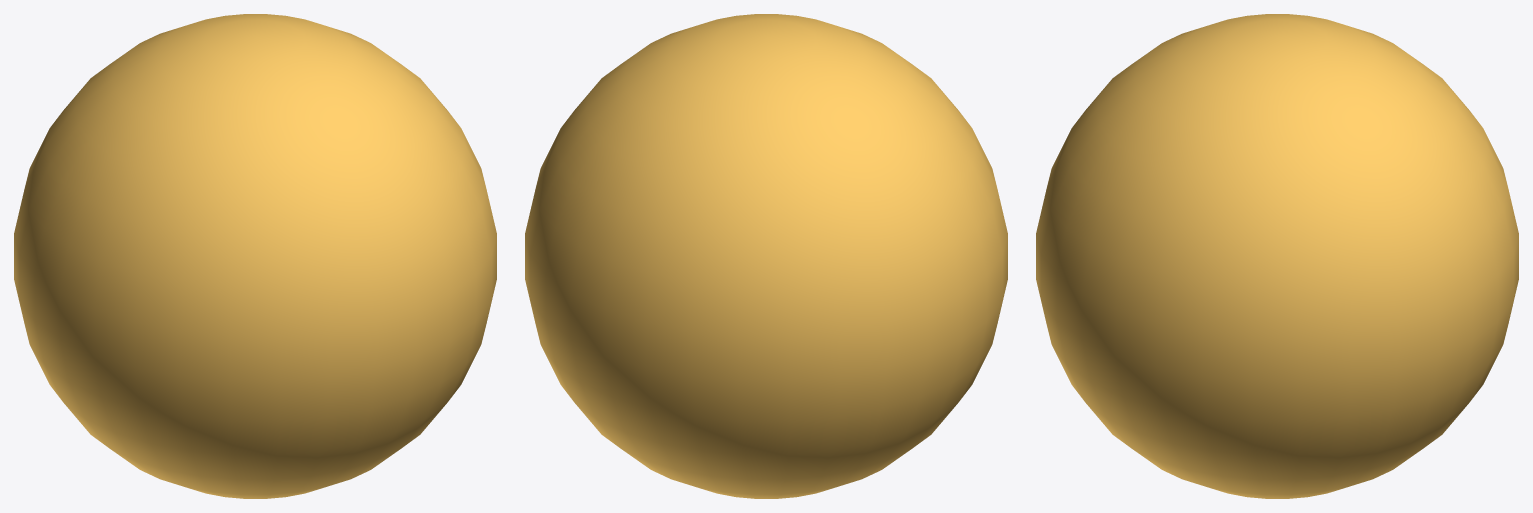
3 views of the same model, side by side, from view 1: azimuth 30°, elevation 25°; view 2: azimuth 150°, elevation 25°; view 3: azimuth 270°, elevation 25° (orthographic).
Parts seen in each view (by area): view 1: Ball; view 2: Ball; view 3: Ball.
Boxes of the visible parts, left/top/right/bottom form: Ball: left=14, top=14, right=496, bottom=498; Ball: left=525, top=14, right=1007, bottom=498; Ball: left=1036, top=14, right=1518, bottom=498.
Size of the model in its own units: 0.9891 by 1 by 0.9945.
